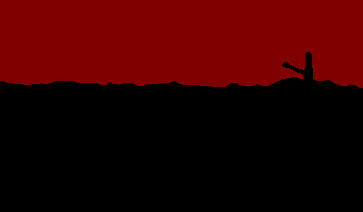Sky: (1, 1, 362, 211)
